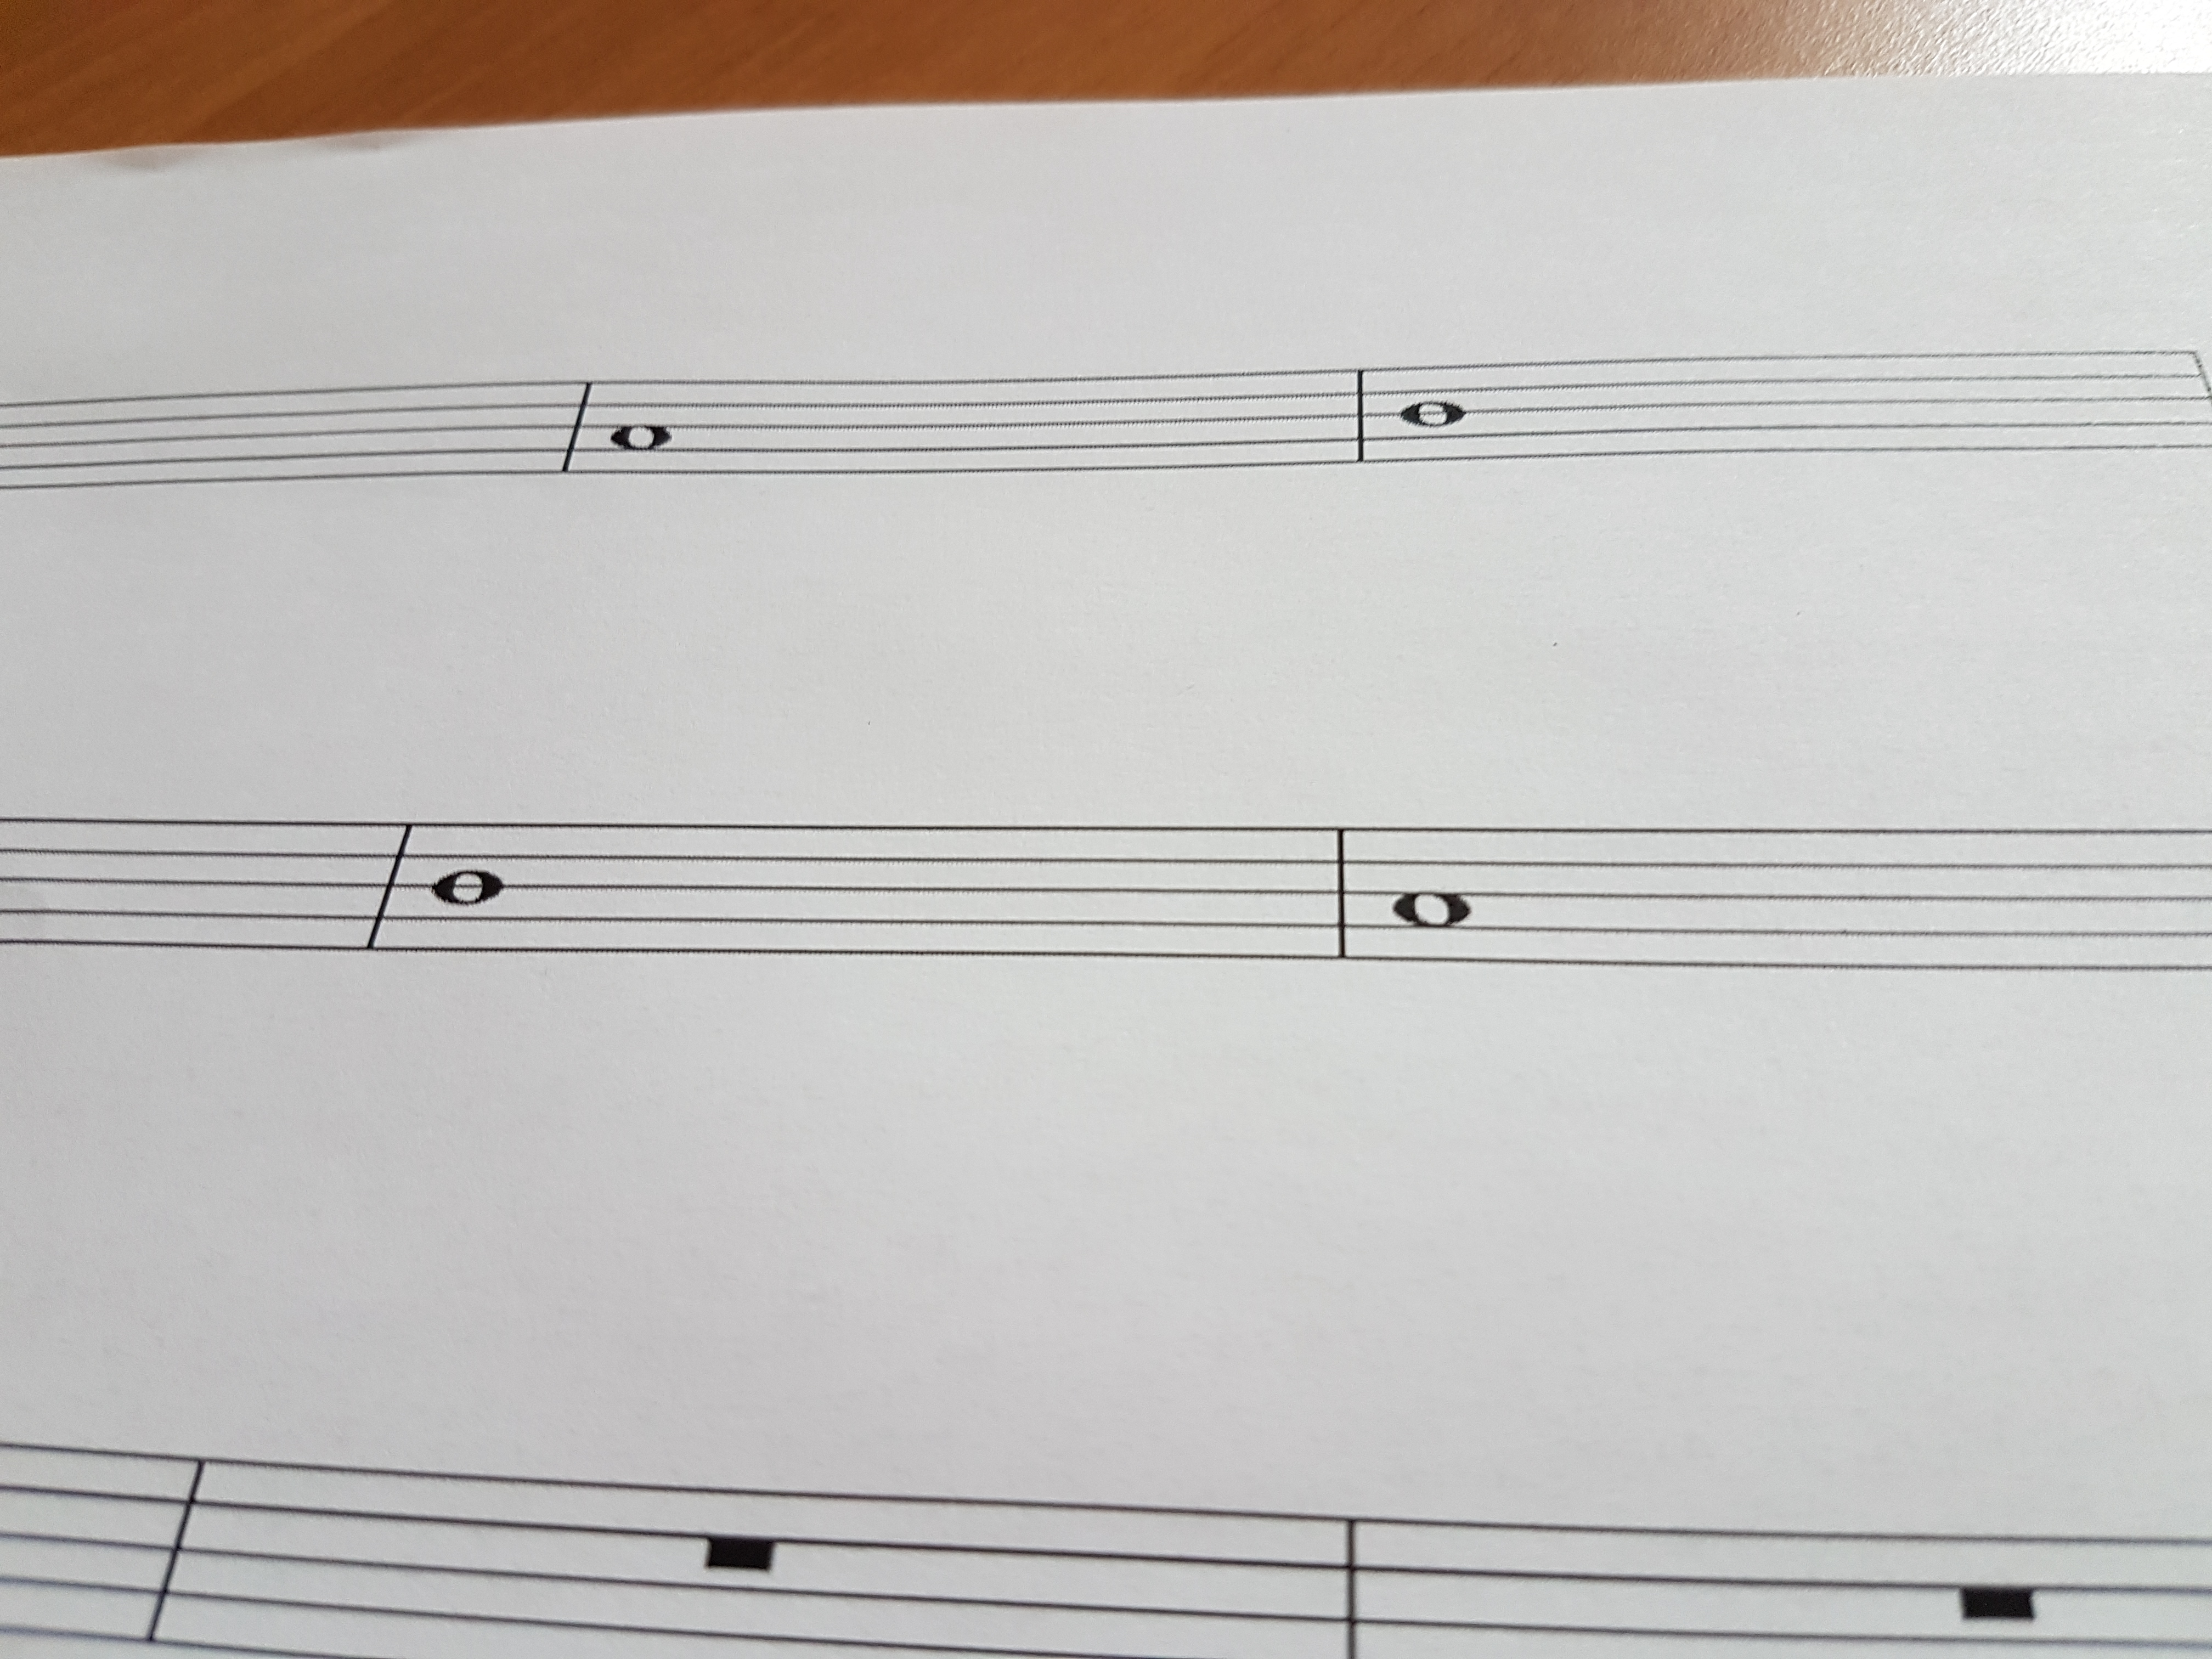pipe: (138, 1432, 212, 1659), (359, 803, 416, 967), (1315, 809, 1357, 981), (554, 366, 596, 497), (1345, 357, 1378, 481)
semibreve_a: (1385, 791, 1480, 999), (599, 352, 683, 507)
semibreve_h: (421, 795, 510, 985), (1390, 342, 1472, 490)
